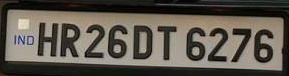character: (36, 21, 59, 58), (59, 22, 81, 58), (155, 24, 177, 60), (230, 26, 252, 62), (84, 22, 105, 59), (132, 23, 153, 60), (106, 24, 128, 59), (207, 27, 228, 62), (253, 28, 274, 63), (185, 27, 205, 61)
